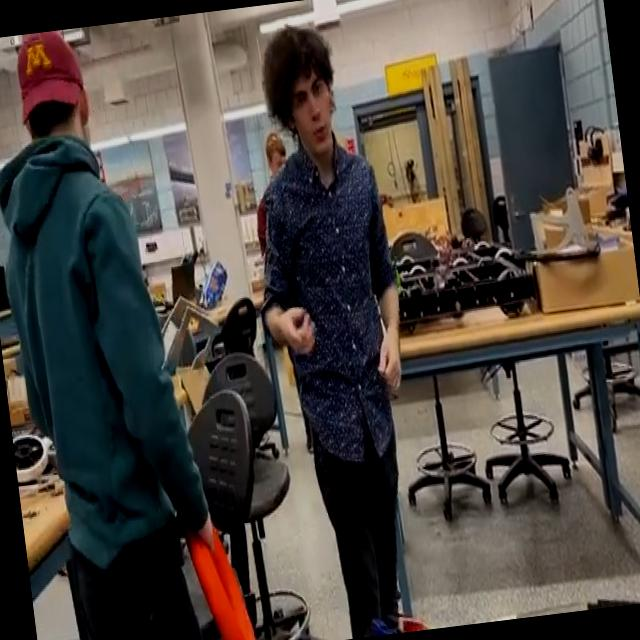note: (180, 510, 262, 640)
